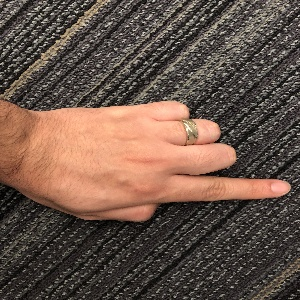hand: (44, 102, 290, 220)
